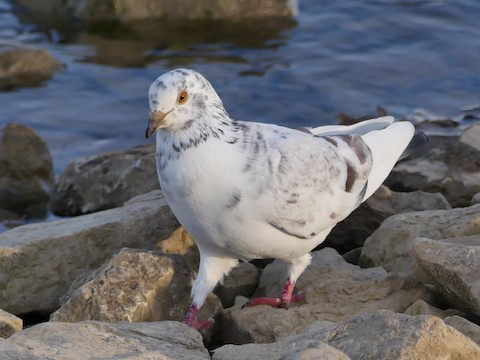pigeon: (141, 64, 416, 336)
